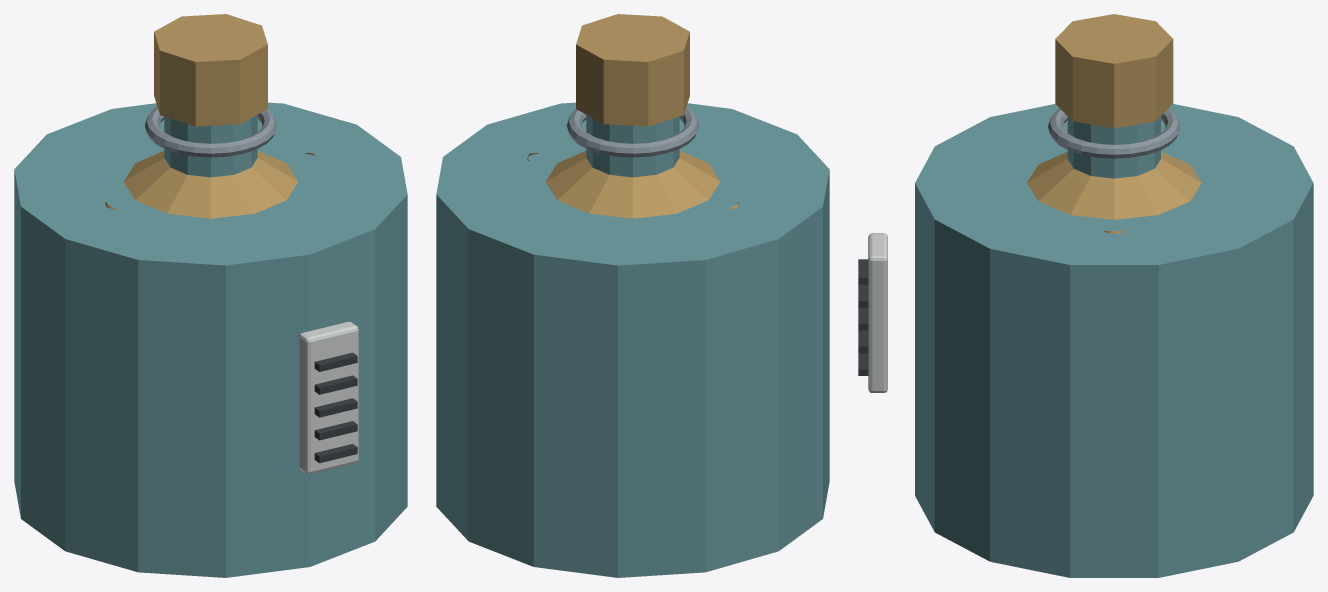
3 views of the same model, side by side, from view 1: azimuth 30°, elevation 25°; view 2: azimuth 150°, elevation 25°; view 3: azimuth 270°, elevation 25° (orthographic).
Parts seen in each view (by area): view 1: TV-178 Orra Sen — Wayfarer Flask; view 2: TV-178 Orra Sen — Wayfarer Flask; view 3: TV-178 Orra Sen — Wayfarer Flask.
Boxes of the visible parts, left/top/right/bottom form: TV-178 Orra Sen — Wayfarer Flask: left=14, top=14, right=407, bottom=577; TV-178 Orra Sen — Wayfarer Flask: left=436, top=14, right=829, bottom=577; TV-178 Orra Sen — Wayfarer Flask: left=858, top=14, right=1313, bottom=577.
Size of the model in its own units: 0.1579 by 0.205 by 0.185.
